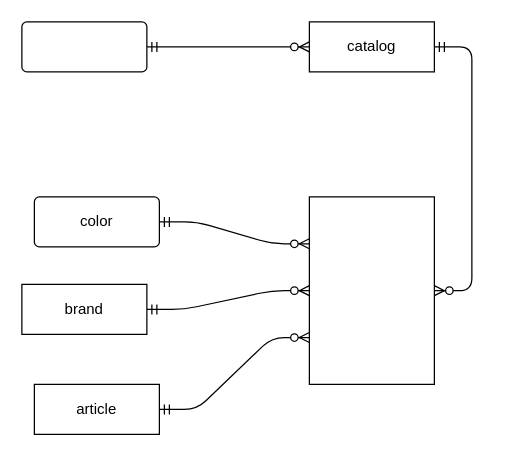
The diagram is 505 pixels wide and 456 high, and some of its shapes have lost their labels. Here are the shapes that lost their labels. From the top down, the centre of each, then its label:
the point at 84,46: categoria
the point at 371,290: Nomenclature
